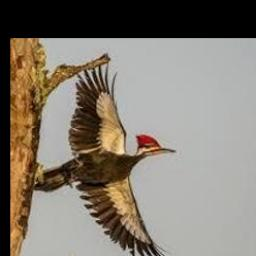Woodpecker: (31, 62, 180, 256)
